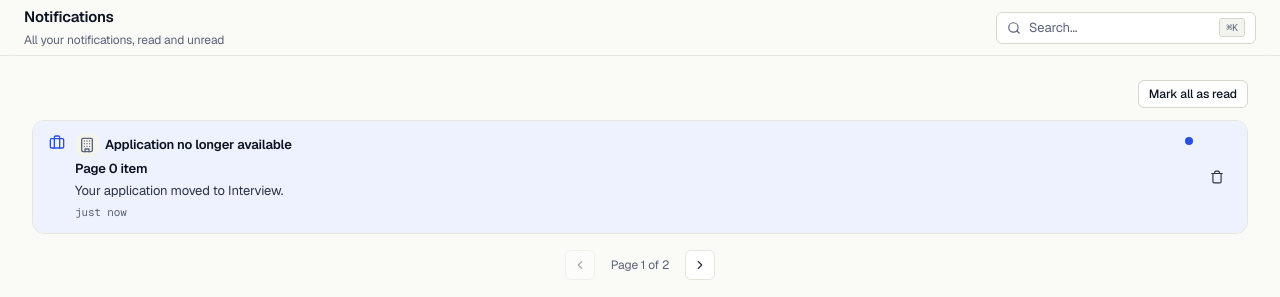
Test: TC-NOTIF-PAGE-10..15: numbered pager › TC-NOTIF-PAGE-12: clicking Next re-fetches the following page and replaces the rows
expect the text "Page 0 item" is shown: met, box left=75, top=160, right=147, bottom=177
Click the button with test id "notifications-page-pager-next" at (700, 264), box left=685, top=250, right=715, bottom=280
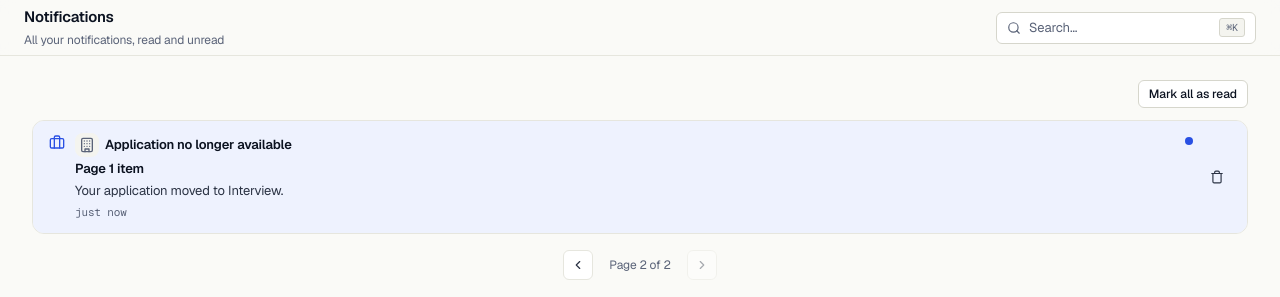
expect the text "Page 1 item" is shown: met, box left=75, top=160, right=144, bottom=177
expect the text "Page 0 item" is gone: met
